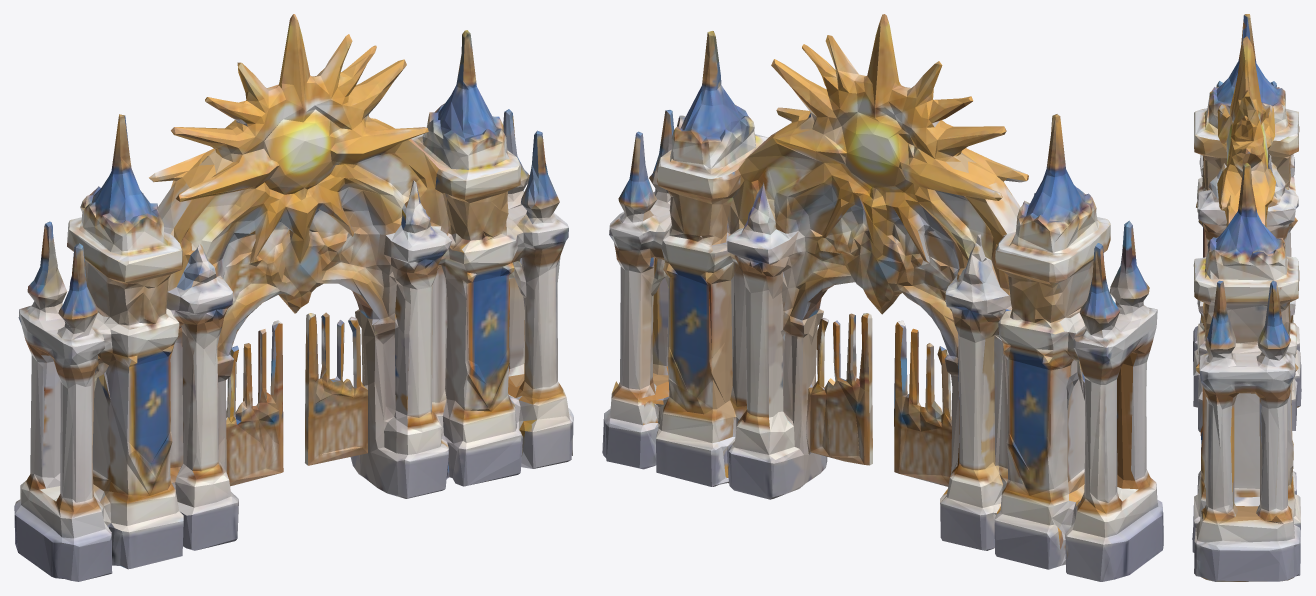
Rendered from heaven_sun_gate_1117.glb.
3 views of the same model, side by side, from view 1: azimuth 30°, elevation 25°; view 2: azimuth 150°, elevation 25°; view 3: azimuth 270°, elevation 25° (orthographic). The views are drawn at different scales.
Visible parts, largest first — view 1: tmpadst71a8.ply; view 2: tmpadst71a8.ply; view 3: tmpadst71a8.ply.
Boxes of the visible parts, bbox=[...] form: tmpadst71a8.ply: bbox=[14, 14, 573, 581]; tmpadst71a8.ply: bbox=[602, 14, 1163, 581]; tmpadst71a8.ply: bbox=[1192, 14, 1301, 581].
Bounding box in the file's own units: 1.99 × 1.77 × 0.4039.
1 material, 1 textured.
